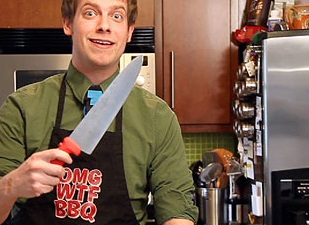knife: (33, 50, 147, 185)
